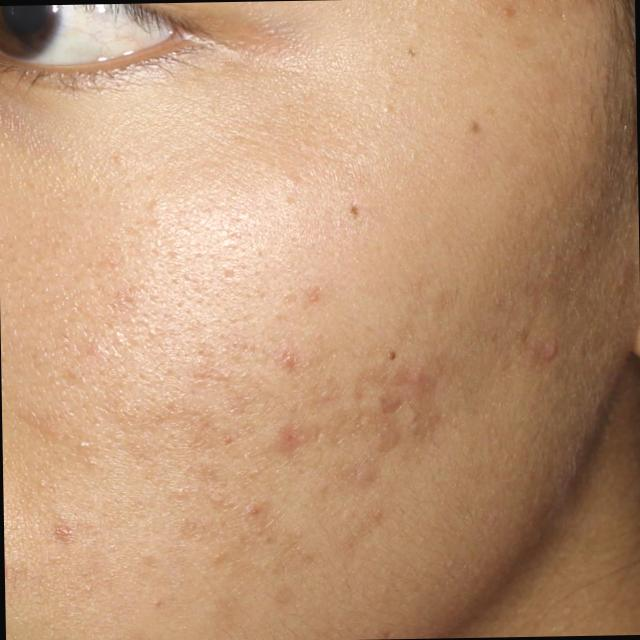blackhead: (348, 205, 360, 218), (469, 123, 479, 133), (407, 48, 416, 58), (388, 352, 396, 361), (251, 508, 258, 514), (156, 602, 161, 606)
